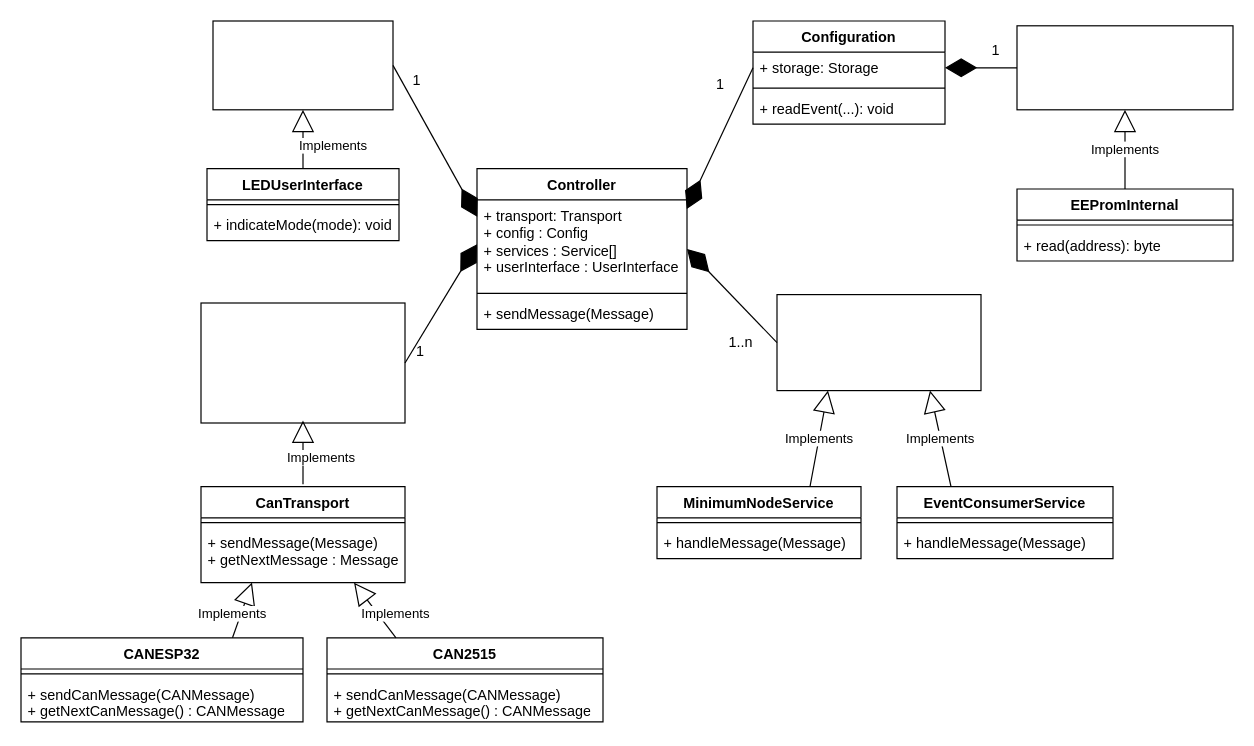
The diagram is 1254 pixels wide and 746 high, and some of its shapes have lost their labels. Each missing label, with the centre of its shape:
"«interface» Service + handleMessage(Message)" goes at point 878,342.
"«interface» Storage + read(address): byte" goes at point 1124,67.
"«interface» Transport + sendMessage(Message) + getNextMessage : Message" goes at point 302,362.
"«interface» UserInterface + indicateMode(mode)" goes at point 302,65.
